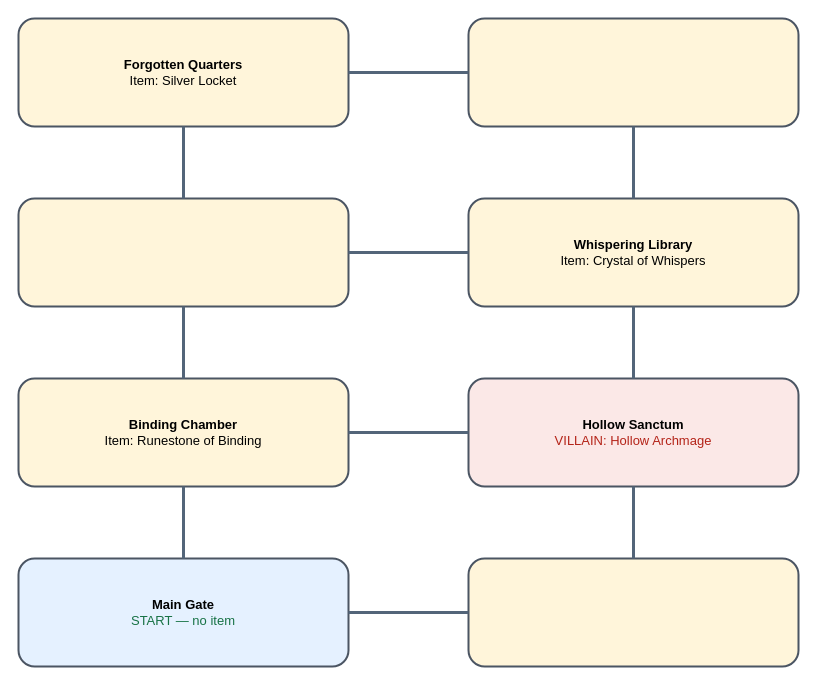
Some shapes in this 816 by 684 pixel diagram are drawn without their labels. Here are the shapes that lost their labels. From the top down, the centre of each, then its label:
At (x=633, y=72): "Moonlit Observatory Item: Moonstone Amulet".
At (x=183, y=252): "Phoenix Sanctuary Item: Phoenix Feather".
At (x=633, y=612): "Scriptorium Item: Enchanted Quill".
